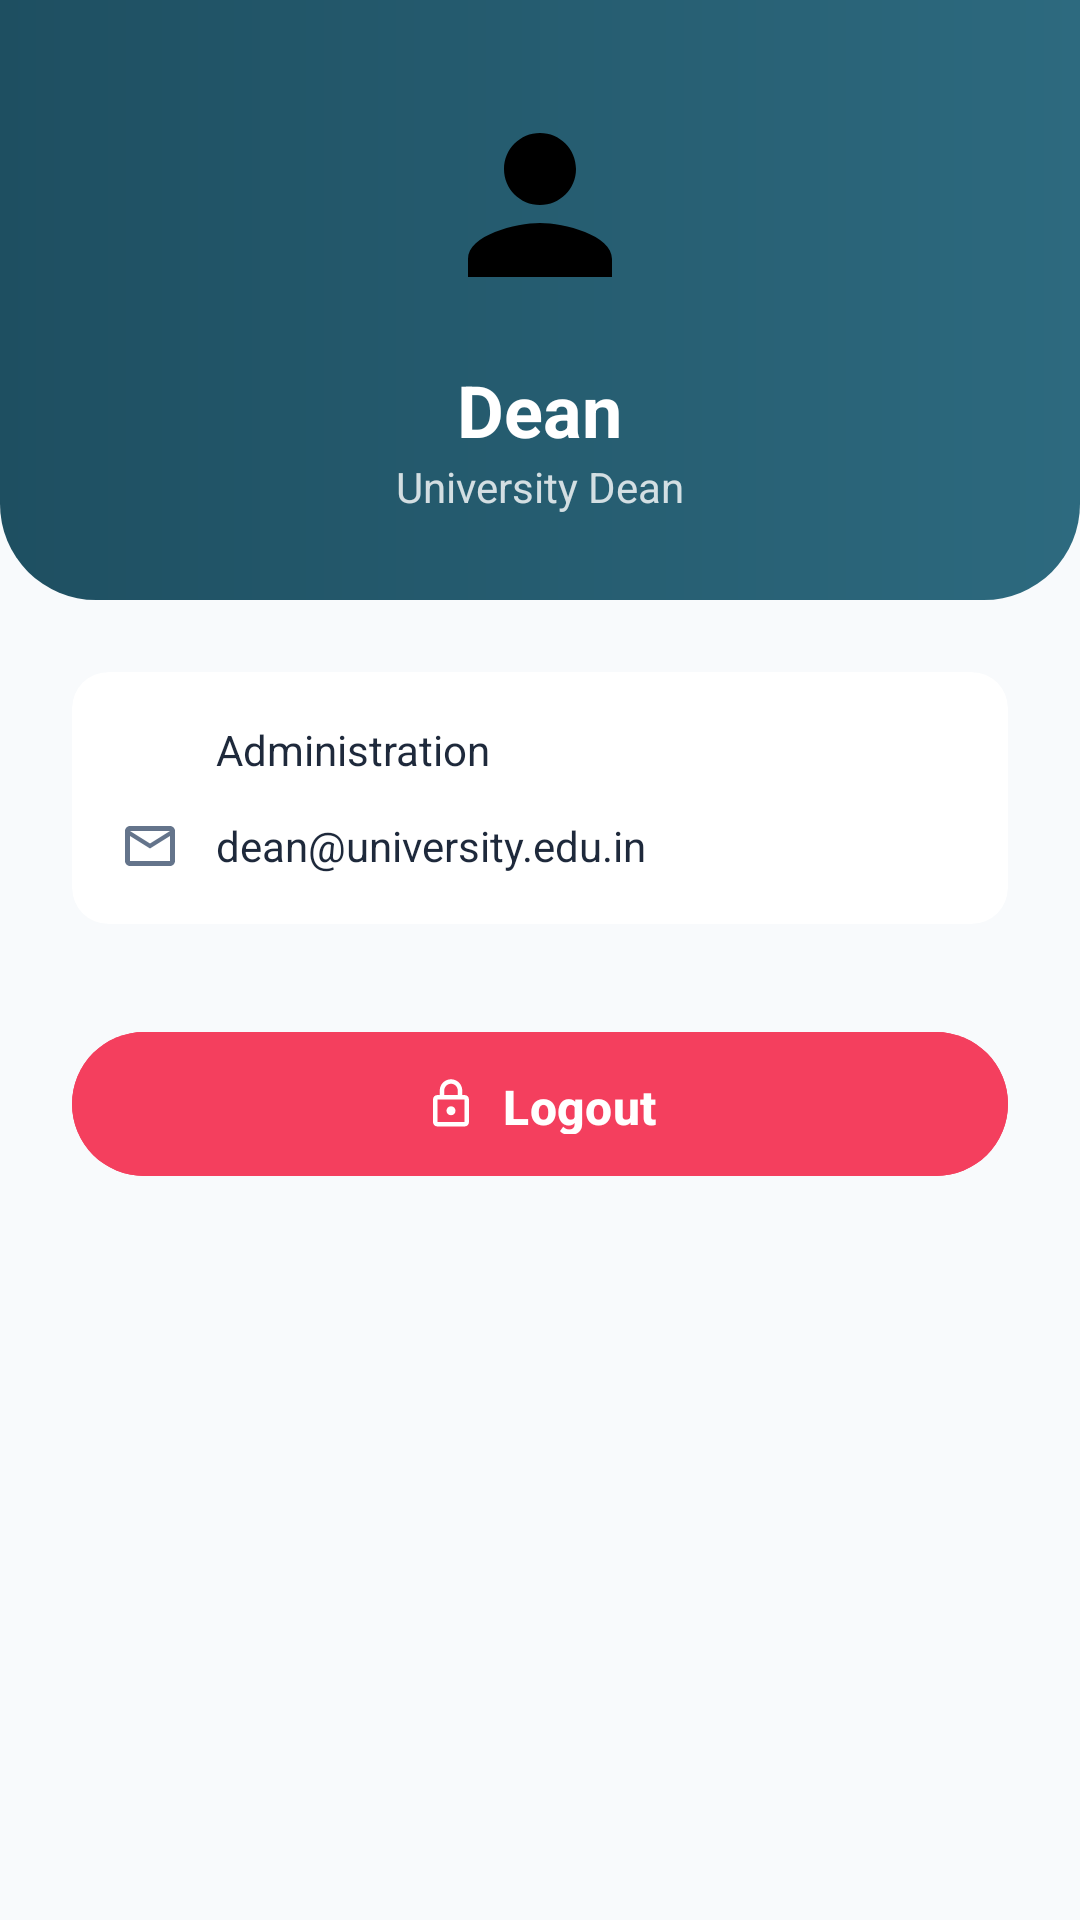

Icons on this 1080×1920 Android screen, each with its box as bbox=[x1, y1, x2, y2]:
email: bbox=[125, 826, 175, 866]
person: bbox=[468, 133, 612, 277]
